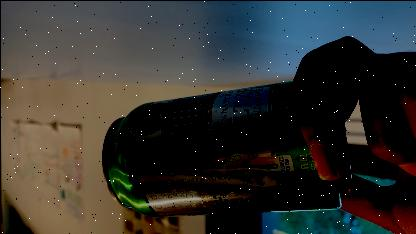Can: (99, 76, 355, 220)
